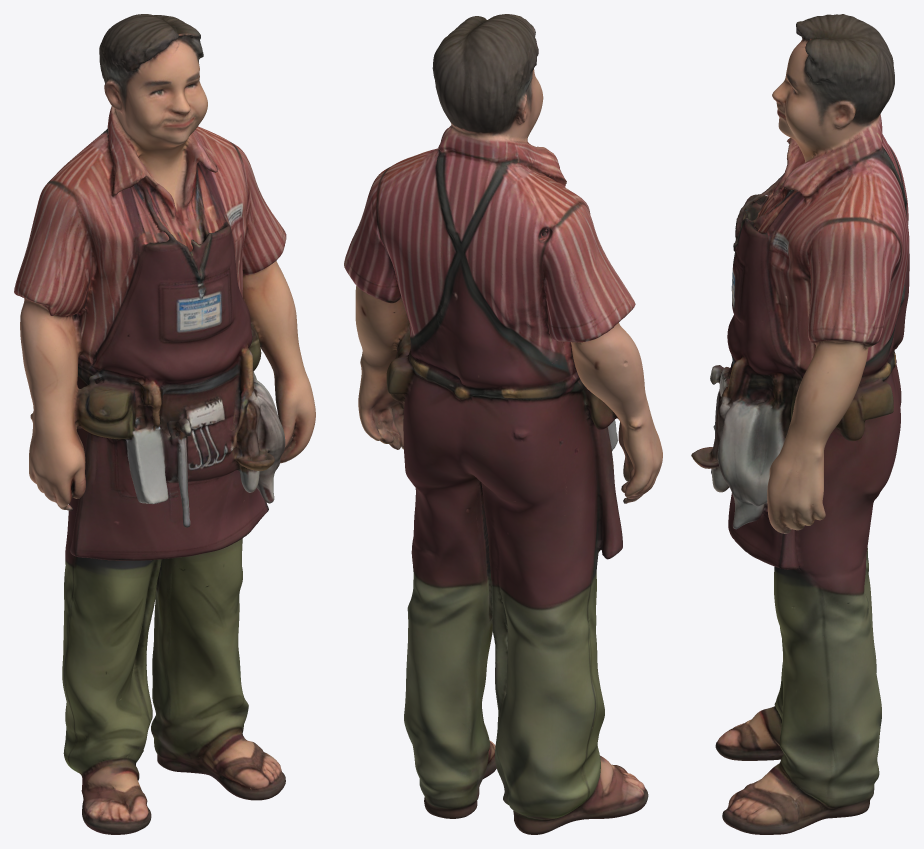
File: Meshy_AI_The_Market_Craftsman_0624012005_texture.fbx
3 views of the same model, side by side, from view 1: azimuth 30°, elevation 25°; view 2: azimuth 150°, elevation 25°; view 3: azimuth 270°, elevation 25° (orthographic). The views are drawn at different scales.
Parts seen in each view (by area): view 1: Mesh_0; view 2: Mesh_0; view 3: Mesh_0.
Boxes of the visible parts, <box> form: Mesh_0: <box>14,14,315,834</box>; Mesh_0: <box>344,14,662,834</box>; Mesh_0: <box>691,14,909,834</box>.
Size of the model in its own units: 76.46 by 200 by 51.31.
Materials: 1 (1 with a texture image).
